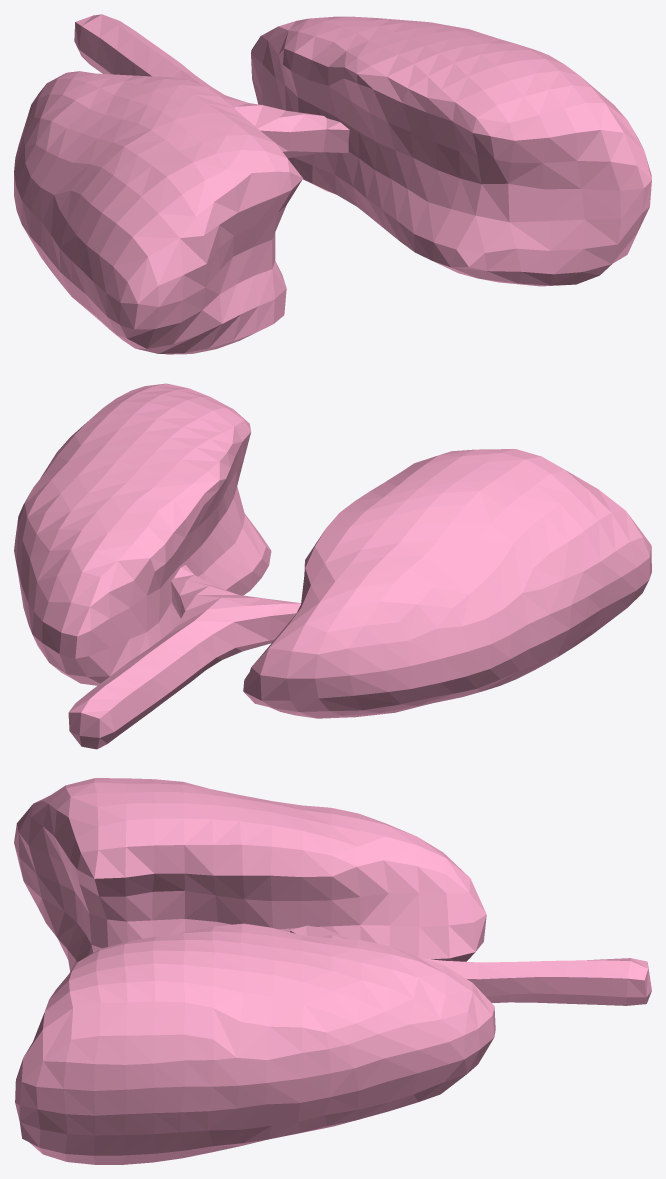
File: Lungs.glb
3 renders of one model, top to bottom at view 1: azimuth 30°, elevation 25°; view 2: azimuth 150°, elevation 25°; view 3: azimuth 270°, elevation 25°, orthographic. The views are drawn at different scales.
Bounding box in the file's own units: 3.88 × 1.43 × 4.
